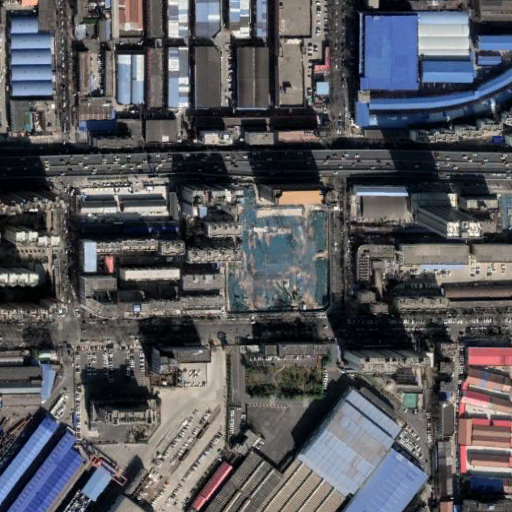cw: (214, 182, 337, 317)
